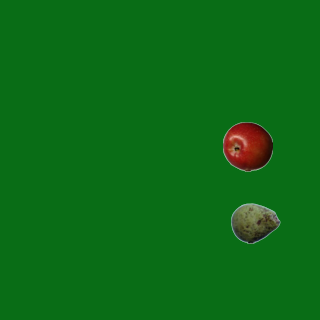Apple Braeburn: (222, 121, 272, 171)
Pear Stone: (230, 198, 280, 248)
